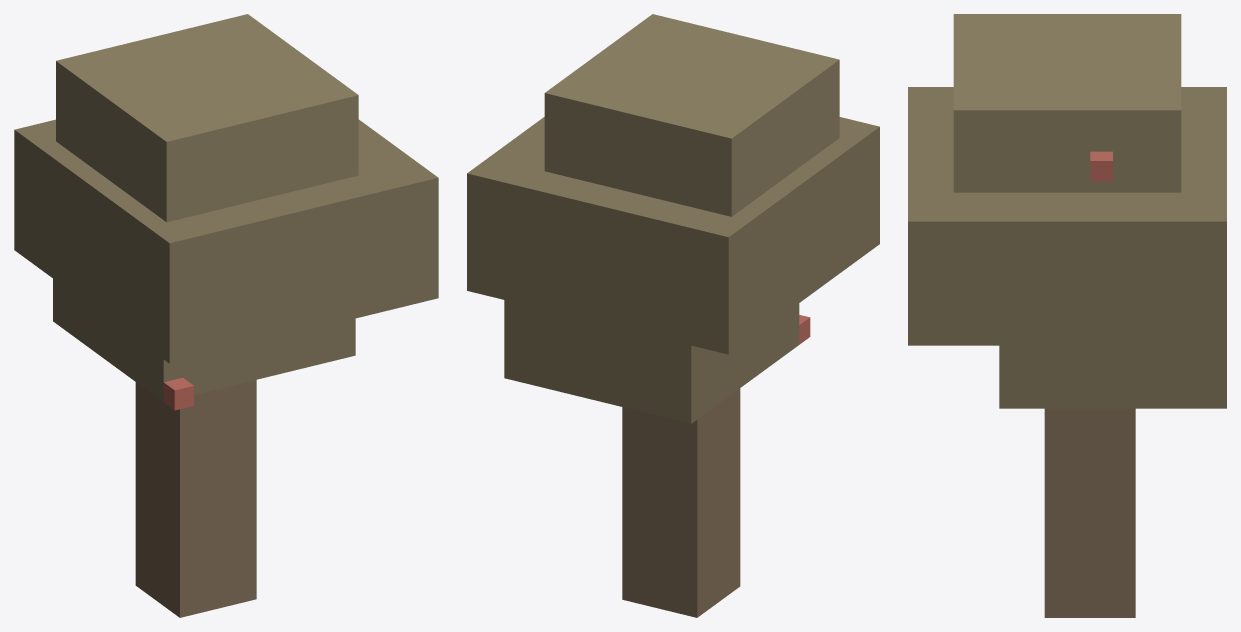
Rendered from nogal_03.glb.
The picture shows the model from 3 angles, left to right: view 1: azimuth 30°, elevation 25°; view 2: azimuth 150°, elevation 25°; view 3: azimuth 270°, elevation 25°; orthographic projection. The views are drawn at different scales.
Visible parts, largest first — view 1: nogal_03; view 2: nogal_03; view 3: nogal_03.
Part boxes in pixels (<box>): nogal_03: <box>14,14,438,617</box>; nogal_03: <box>467,14,879,617</box>; nogal_03: <box>908,14,1226,617</box>.
Size of the model in its own units: 1.4 by 2.6 by 1.4.
